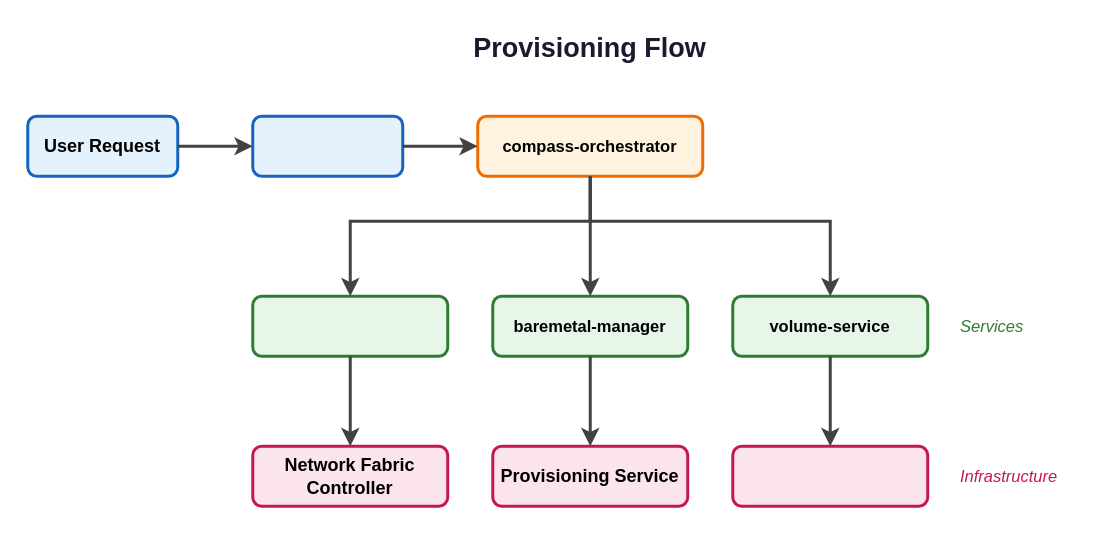
Image size: 1103x533. Some labels were removed from this diagram. The shapes that lost their labels are listed below. From the top down, each one's centre as x and y in pixels, then its label:
At (327,145): "Portal API".
At (349,325): "network-manager".
At (829,475): "Parallel Filesystem".
